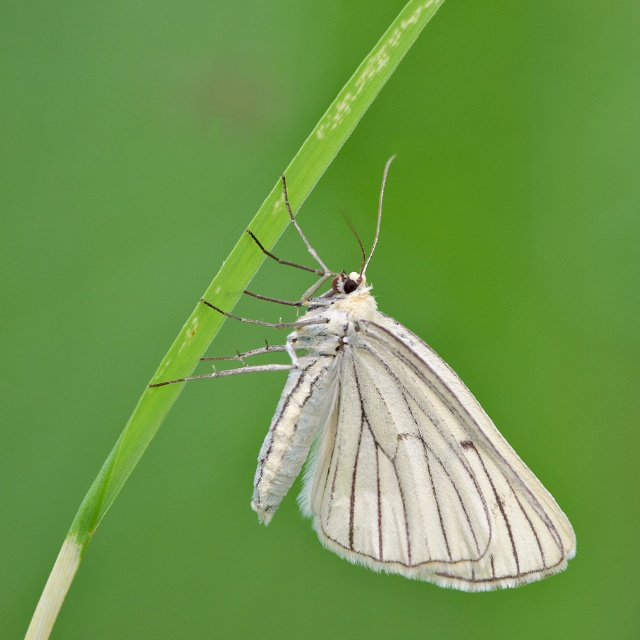Butterfly: (145, 154, 578, 593)
